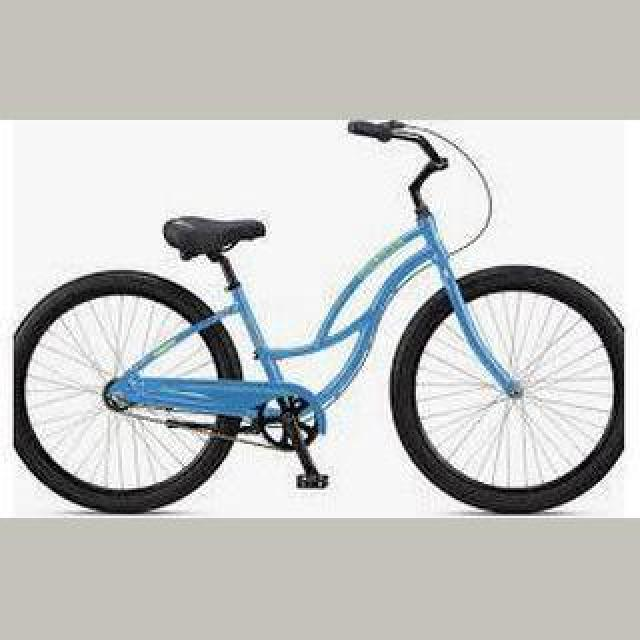Person: (7, 122, 631, 518)
